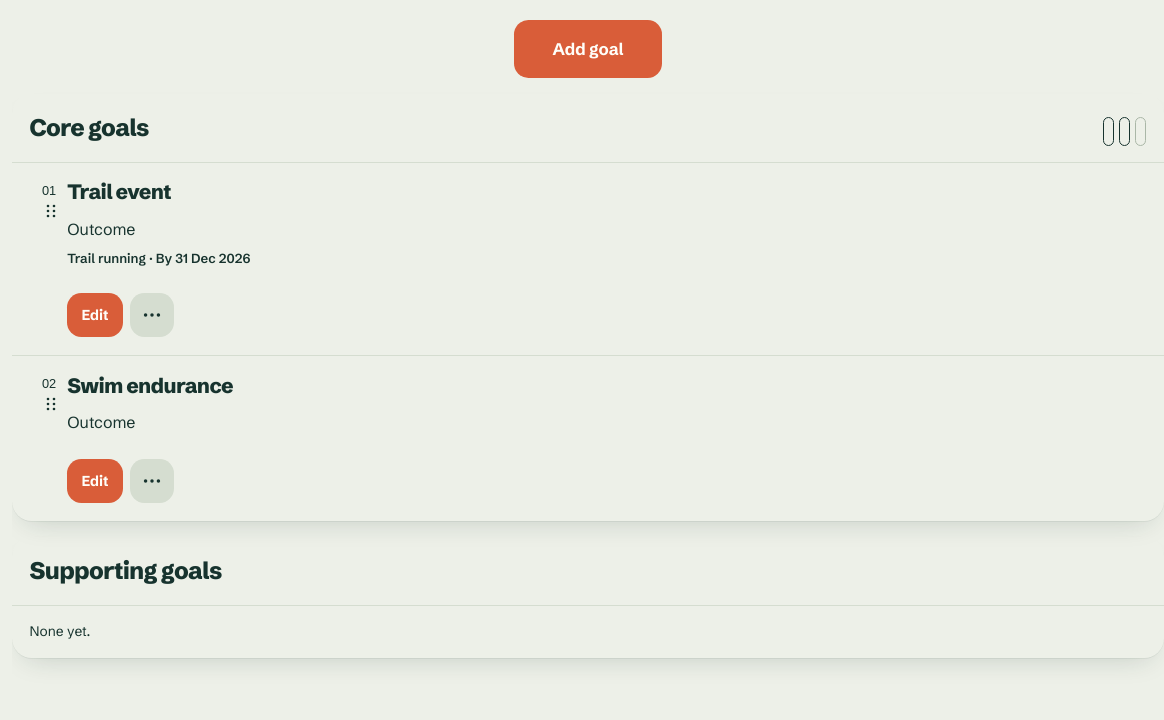
Scenario: GoalManager › opens one goal for editing, without grips, and closes it on its save
The image size is (1164, 720).
Expected: the text "Trail running · By 31 Dec 2026" is shown, top-left (67, 250), bottom-right (250, 266)
What coordinates should you click on to do the following:
click the button "Edit" below "Trail running · By 31 Dec 2026"
I would click on:
 (95, 315)
Its box is top-left (67, 293), bottom-right (123, 337).
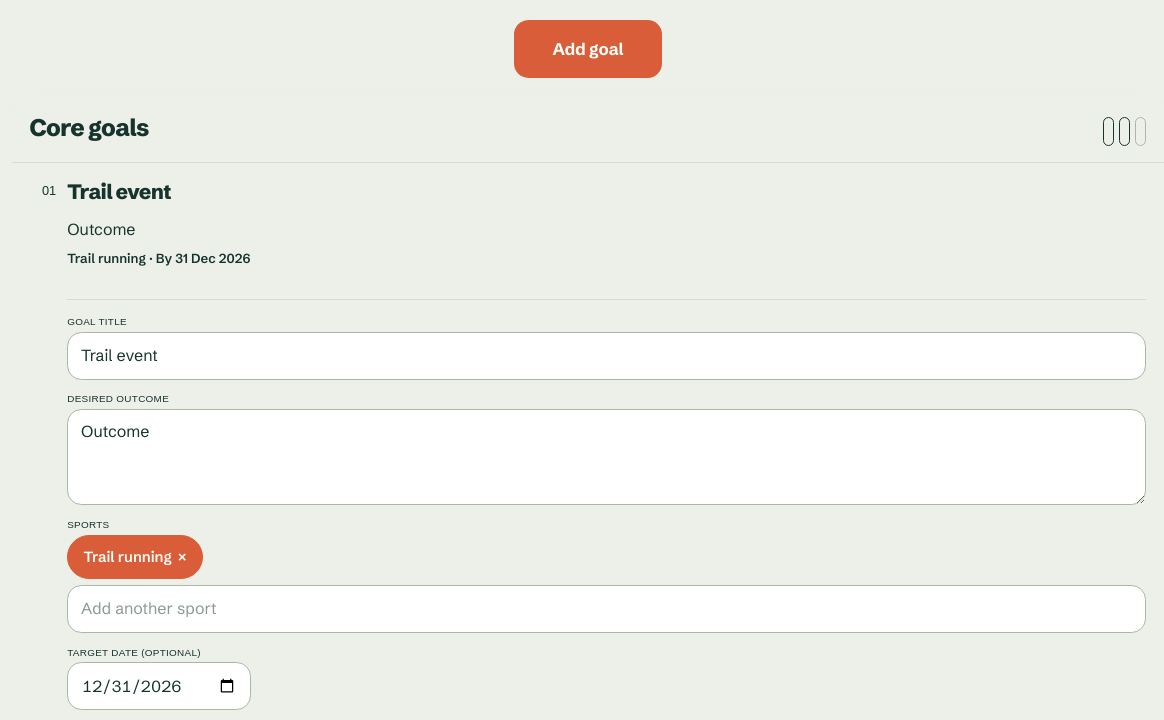
Result: the field labelled "Goal title" holds "Trail event" at top-left (67, 332), bottom-right (1146, 380)
